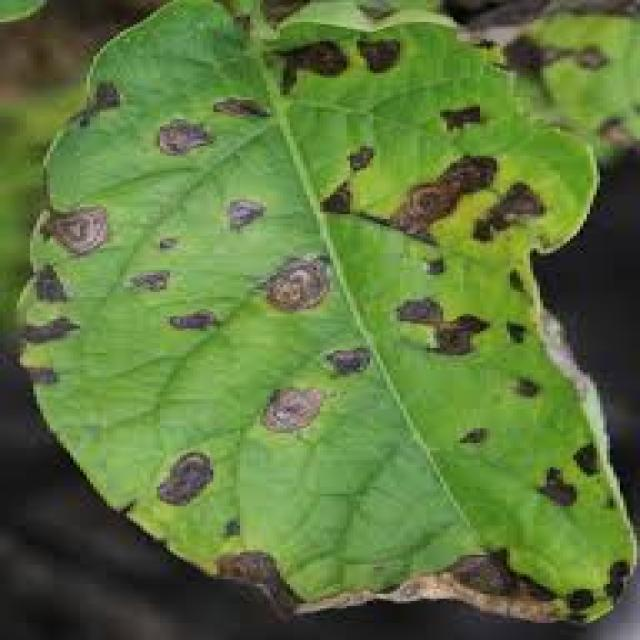earlyblight: (216, 550, 599, 622), (390, 156, 491, 234), (19, 264, 79, 385), (154, 100, 264, 162), (397, 297, 490, 354), (474, 183, 544, 241), (279, 41, 346, 92), (267, 259, 329, 311), (41, 206, 108, 254), (158, 453, 214, 504), (70, 81, 122, 126), (265, 389, 318, 431), (538, 467, 577, 506), (359, 41, 399, 72), (325, 347, 370, 373), (229, 201, 264, 231), (440, 105, 481, 129), (170, 311, 216, 329), (322, 183, 349, 213), (132, 271, 169, 290), (348, 145, 375, 171), (515, 377, 541, 397), (461, 427, 482, 443), (217, 0, 232, 7)
